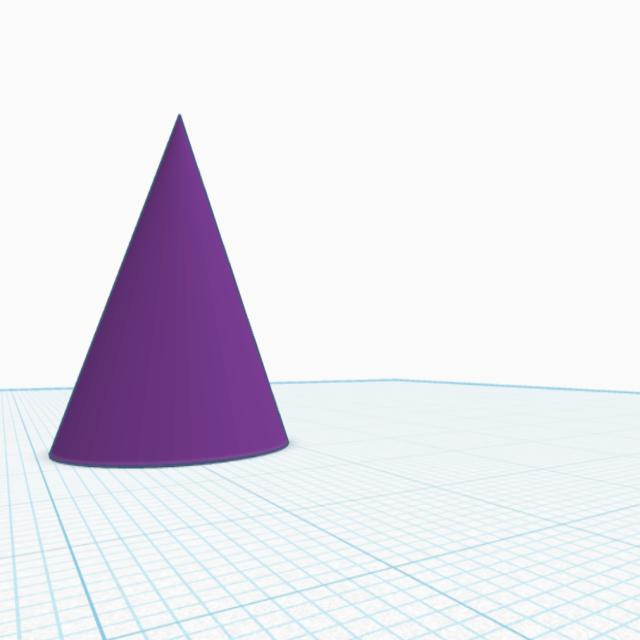cone: (45, 96, 294, 475)
